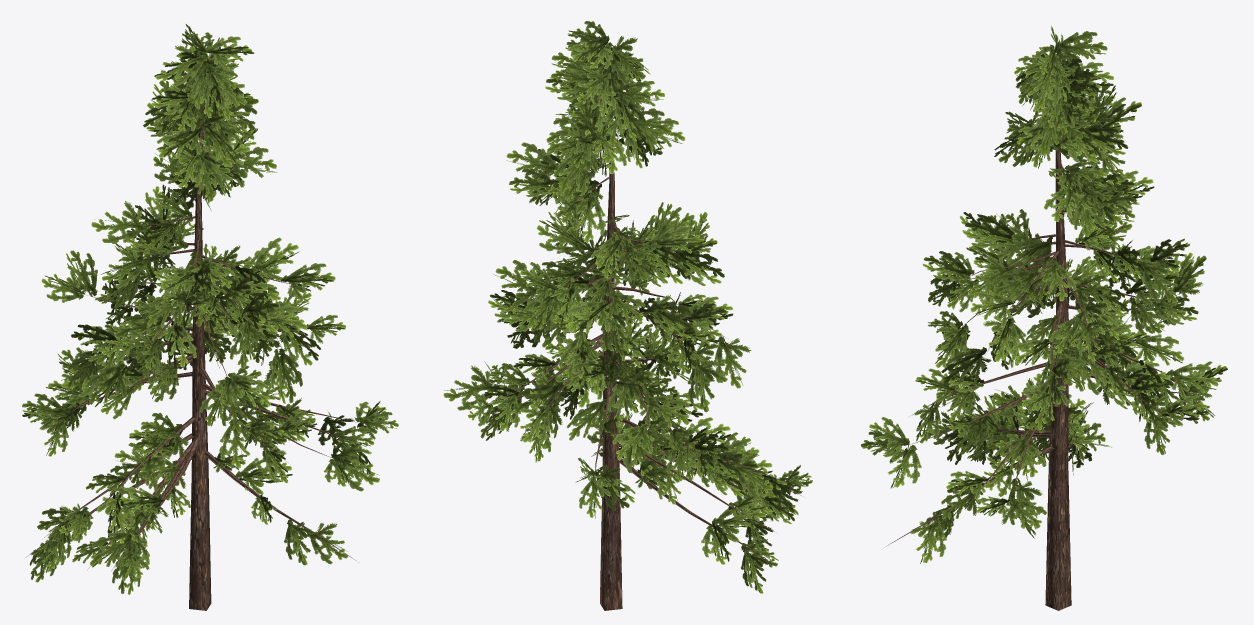
File: tree-pine.glb
3 renders of one model, left to right at view 1: azimuth 30°, elevation 25°; view 2: azimuth 150°, elevation 25°; view 3: azimuth 270°, elevation 25°, orthographic.
Parts seen in each view (by area): view 1: Tree; view 2: Tree; view 3: Tree.
Boxes of the visible parts, <box> form: Tree: <box>22,24,398,610</box>; Tree: <box>443,21,812,610</box>; Tree: <box>860,25,1227,610</box>.
Size of the model in its own units: 0.6637 by 1 by 0.5964.
Materials: 2 (2 with a texture image).
